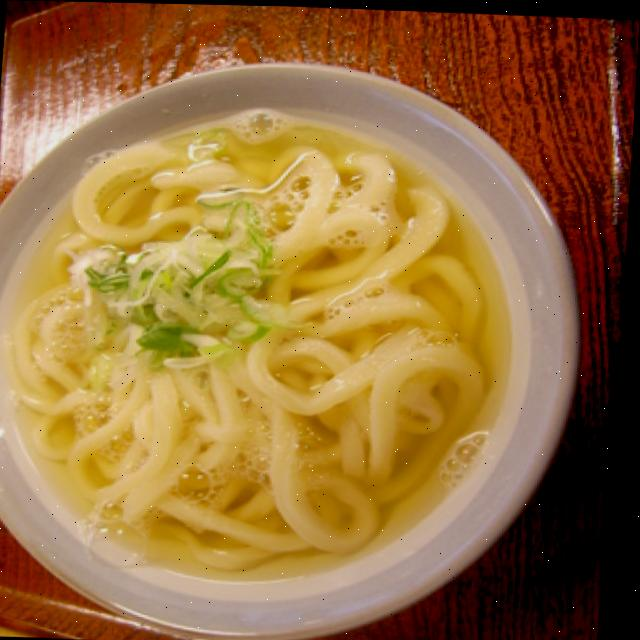面条主食: (0, 88, 573, 620)
